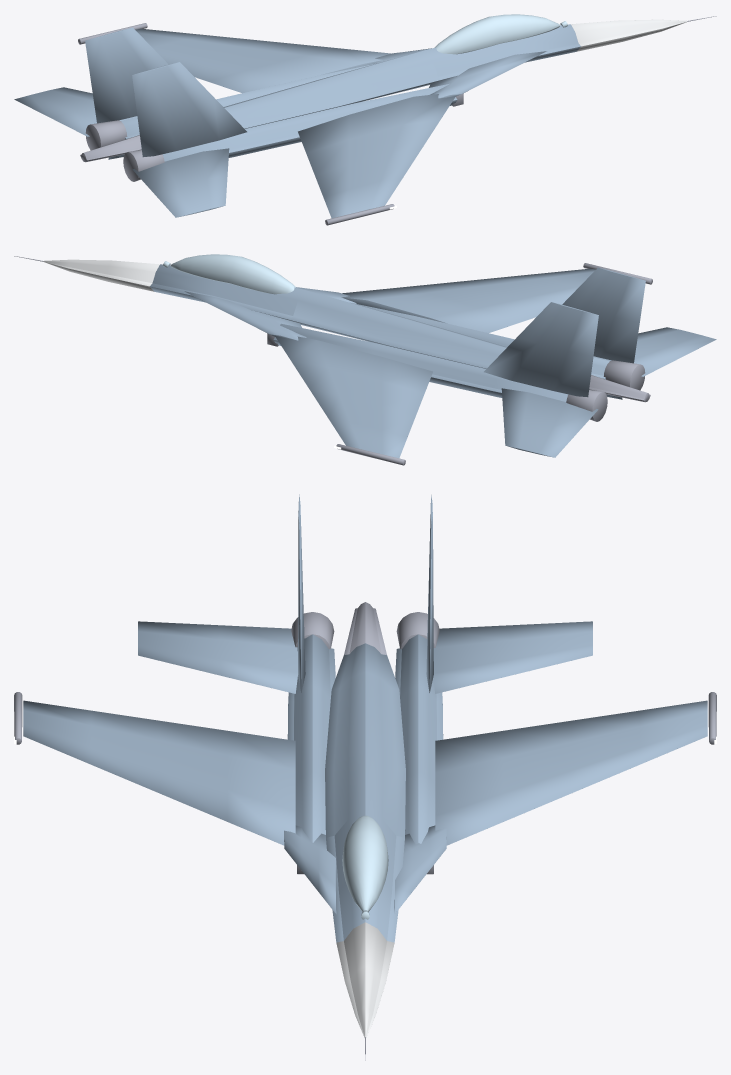
The model's file is SM_Su27_Flanker.fbx.
3 views of the same model, one above another, from view 1: azimuth 30°, elevation 25°; view 2: azimuth 150°, elevation 25°; view 3: azimuth 270°, elevation 25° (orthographic). The views are drawn at different scales.
Parts seen in each view (by area): view 1: SM_Su27_Flanker; view 2: SM_Su27_Flanker; view 3: SM_Su27_Flanker.
Part boxes in pixels (x1,y1,x2,y2): SM_Su27_Flanker: [14, 14, 716, 225]; SM_Su27_Flanker: [14, 254, 716, 465]; SM_Su27_Flanker: [14, 494, 716, 1060].
Bounding box in the file's own units: 21.77 × 14.9 × 4.2.
